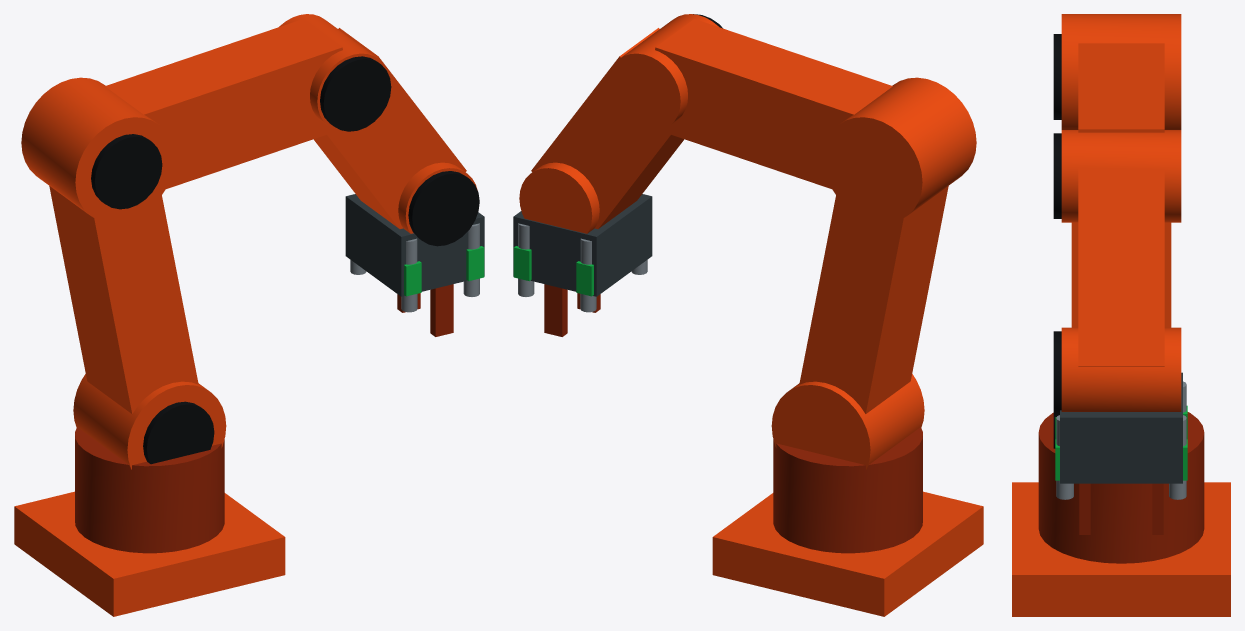
Rendered from opening_robot.dae.
3 renders of one model, left to right at view 1: azimuth 30°, elevation 25°; view 2: azimuth 150°, elevation 25°; view 3: azimuth 270°, elevation 25°, orthographic. The views are drawn at different scales.
Visible parts, largest first — view 1: opening_robot; view 2: opening_robot; view 3: opening_robot.
Part boxes in pixels (x1,y1,x2,y2): opening_robot: (14,14,484,616); opening_robot: (513,14,983,616); opening_robot: (1012,14,1230,616).
Bounding box in the file's own units: 1.57 × 0.66 × 1.78.
